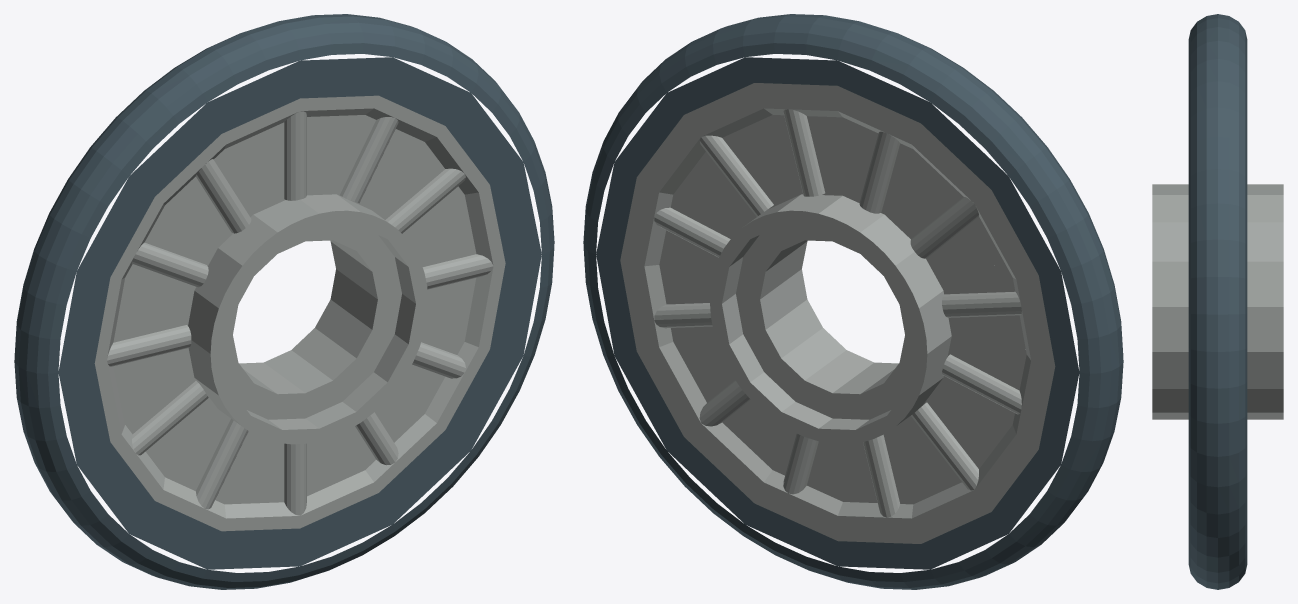
The picture shows the model from 3 angles, left to right: view 1: azimuth 30°, elevation 25°; view 2: azimuth 150°, elevation 25°; view 3: azimuth 270°, elevation 25°; orthographic projection. The views are drawn at different scales.
Visible parts, largest first — view 1: world; view 2: world; view 3: world.
Part boxes in pixels (<box>): world: <box>14,14,554,589</box>; world: <box>583,14,1123,589</box>; world: <box>1152,14,1283,589</box>.
Size of the model in its own units: 0.0176 by 0.0176 by 0.004.
